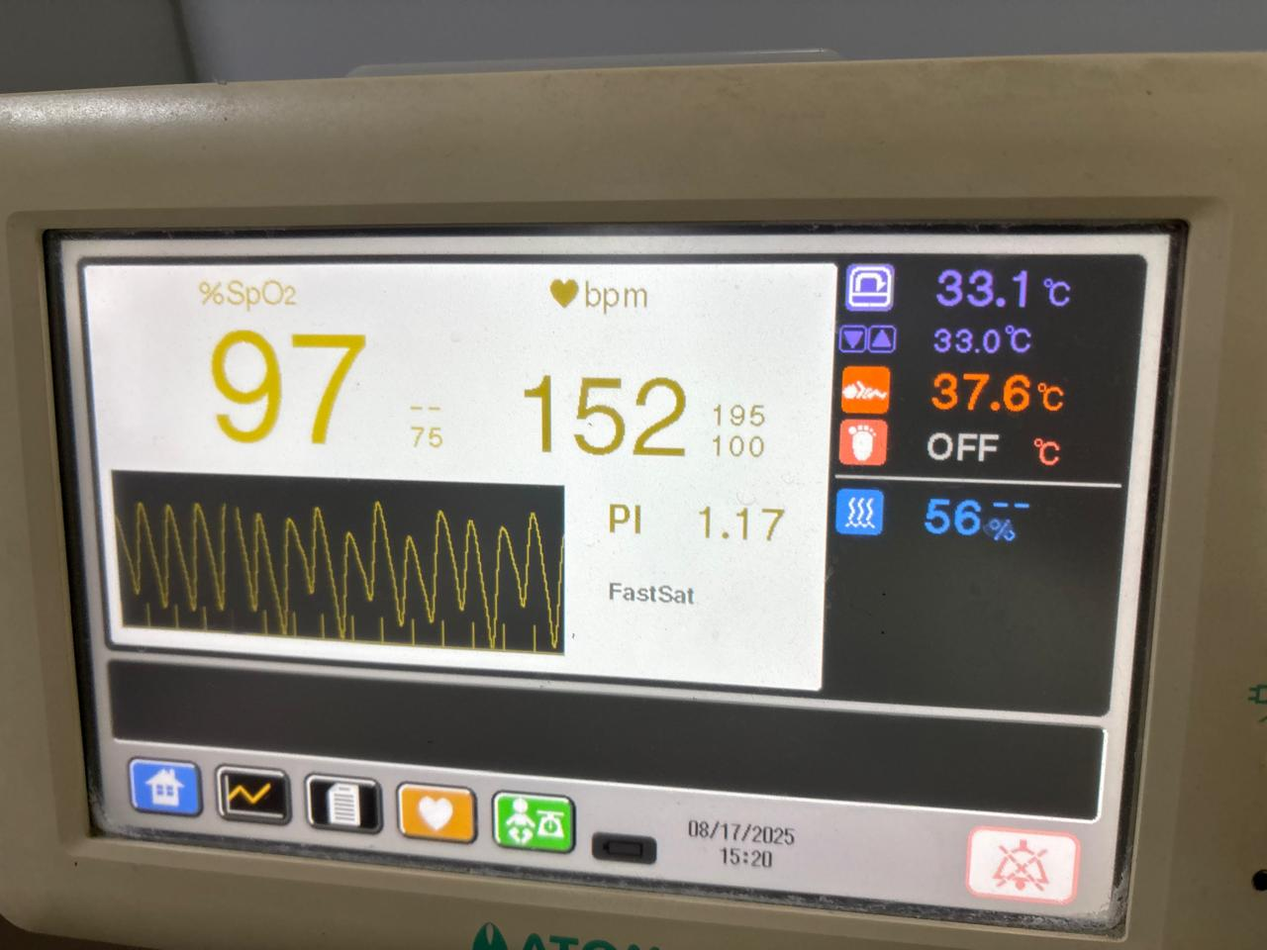air_temp_value: (910, 250, 1048, 329)
heart_rate_value: (517, 366, 697, 469)
humidity_value: (910, 491, 986, 548)
skin_temp_value: (911, 363, 1036, 423)
spo2_value: (208, 318, 370, 459)
